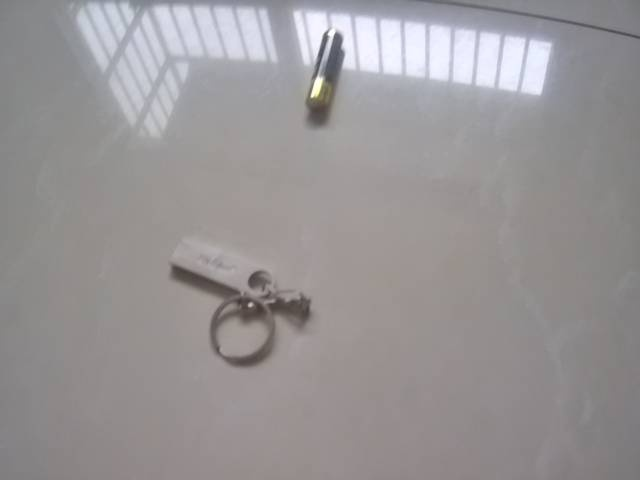U-disk: (158, 230, 318, 369)
battery: (306, 25, 352, 119)
